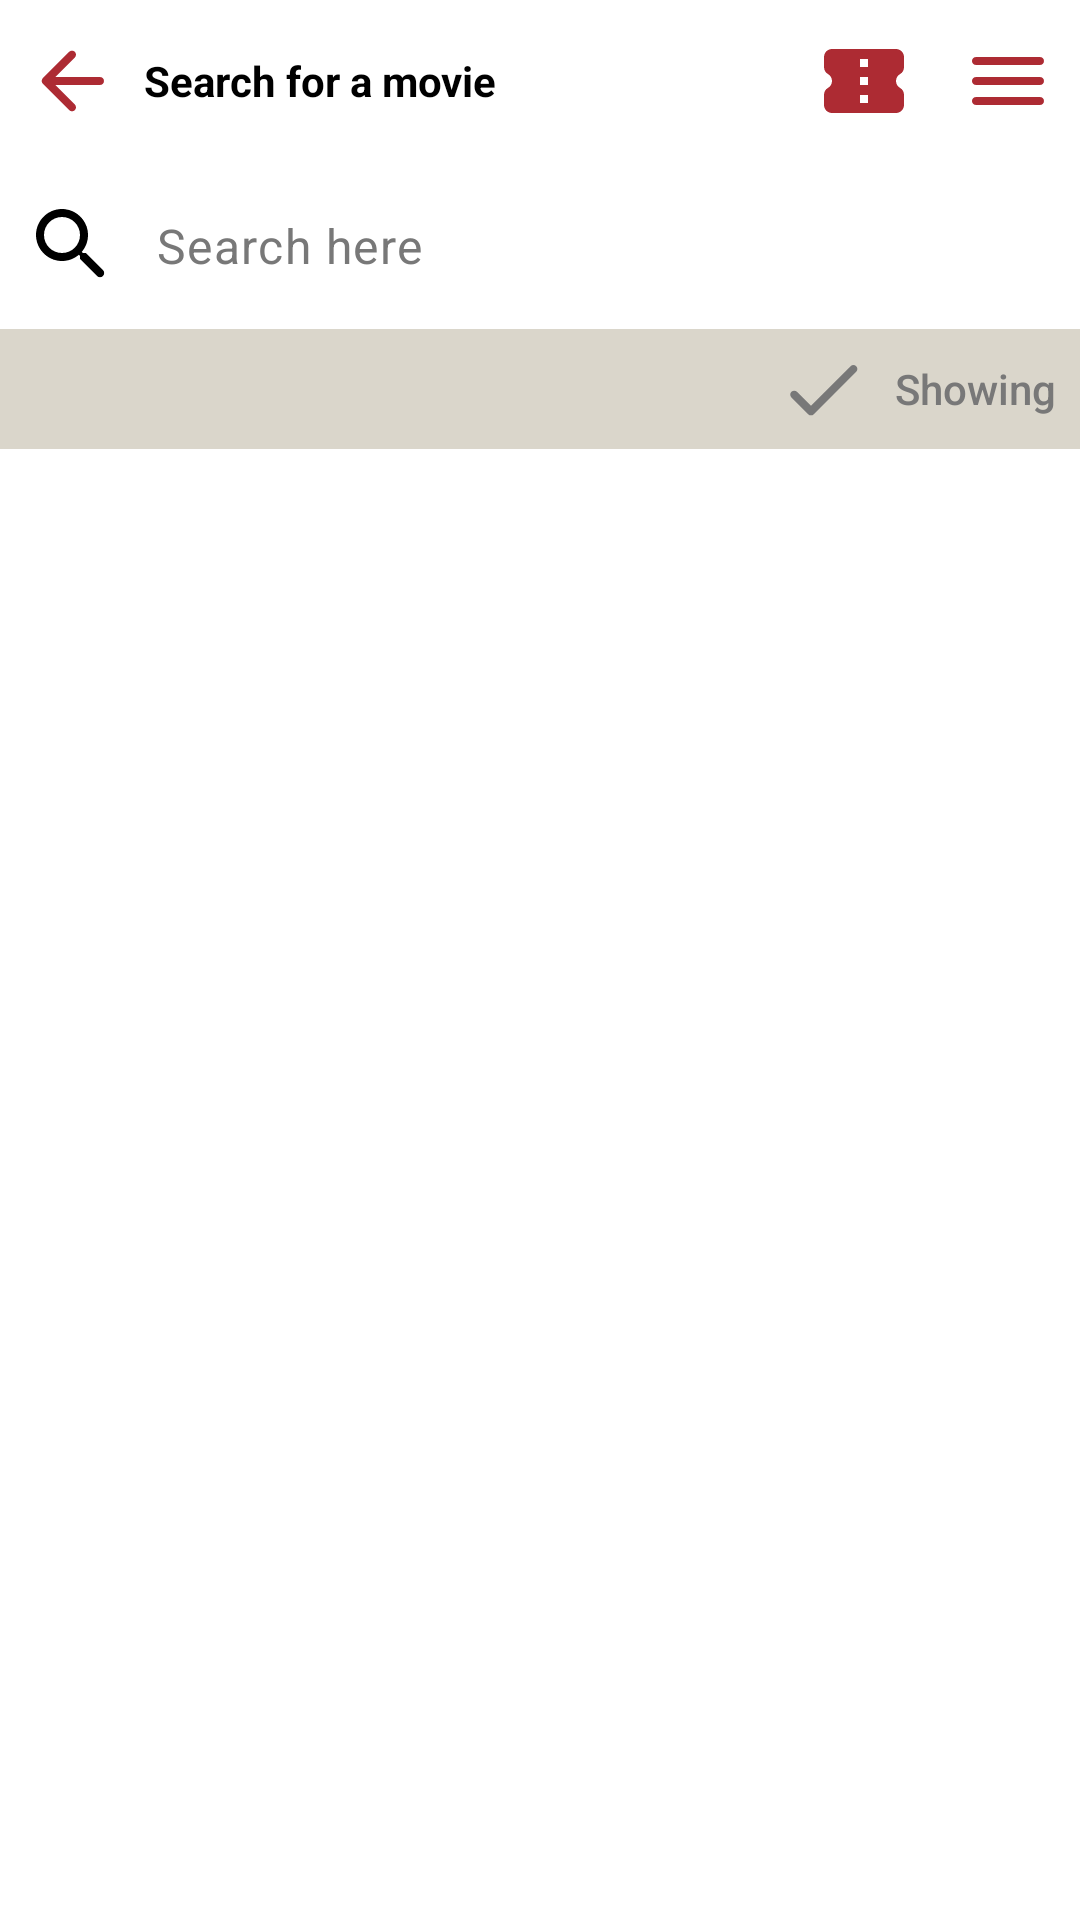

Icon bounding boxes for this 1080x1920 phone screenshot, format [left=x1, top=y1, right=x2, bottom=y2]:
back arrow: [left=41, top=50, right=104, bottom=112]
menu: [left=972, top=57, right=1044, bottom=105]
ticket: [left=824, top=49, right=904, bottom=113]
